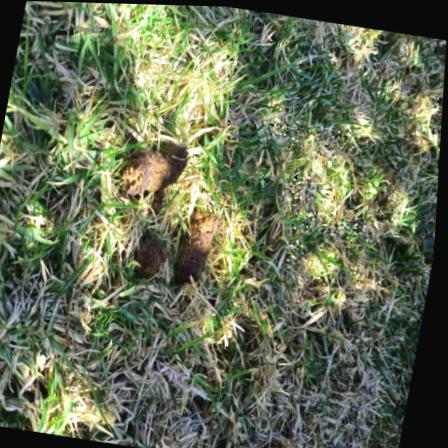dog-poop: (118, 127, 197, 210), (182, 192, 230, 290), (132, 228, 182, 284)
